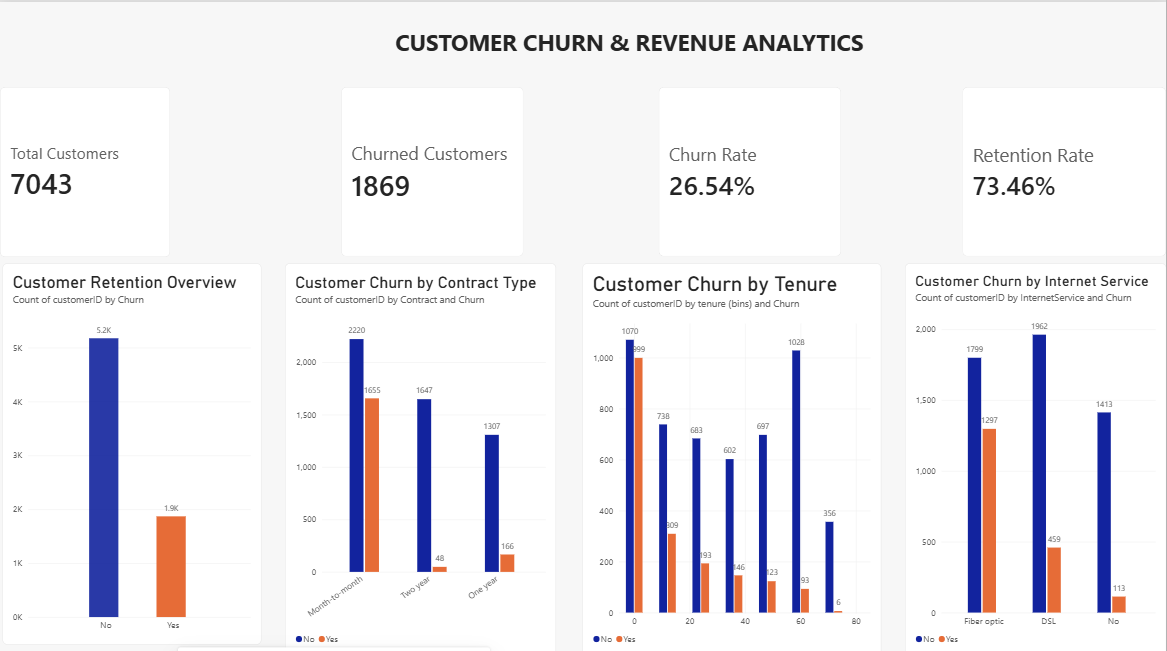

The dashboard page shown, as its layout file describes it:
{"tool":"powerbi","page":{"name":"CUSTOMER CHURN & REVENUE ANALYTICS","canvas":[1920,1080],"ordinal":0},"visuals":[{"type":"cardVisual","fields":{"Data":["telco_customer_churn_mysql.Total Customers"]},"box":[0,140,280,280],"z":0},{"type":"cardVisual","fields":{"Data":["telco_customer_churn_mysql.Churned Customers"]},"box":[561.9,140,300.5,279.9],"z":1000},{"type":"cardVisual","fields":{"Data":["telco_customer_churn_mysql.Churn Rate"]},"box":[1084.7,140,300.5,279.9],"z":2000},{"type":"cardVisual","fields":{"Data":["telco_customer_churn_mysql.Retention Rate"]},"box":[1584.9,140,335.5,279.9],"z":3000},{"type":"clusteredColumnChart","title":"Customer Retention Overview","fields":{"Category":["telco_customer_churn_mysql.Churn"],"Y":["CountNonNull(telco_customer_churn_mysql.customerID)"]},"box":[4.1,430.2,426.1,627.8],"z":4000},{"type":"clusteredColumnChart","title":"Customer Churn by Contract Type","fields":{"Category":["telco_customer_churn_mysql.Contract"],"Series":["telco_customer_churn_mysql.Churn"],"Y":["CountNonNull(telco_customer_churn_mysql.customerID)"]},"box":[469.3,430.2,446.7,650.4],"z":5000},{"type":"clusteredColumnChart","title":"Customer Churn by Tenure","fields":{"Category":["telco_customer_churn_mysql.tenure (bins)"],"Series":["telco_customer_churn_mysql.Churn"],"Y":["CountNonNull(telco_customer_churn_mysql.customerID)"]},"box":[959.2,430.2,491.9,650.4],"z":6000},{"type":"clusteredColumnChart","title":"Customer Churn by Internet Service","fields":{"Category":["telco_customer_churn_mysql.InternetService"],"Series":["telco_customer_churn_mysql.Churn"],"Y":["CountNonNull(telco_customer_churn_mysql.customerID)"]},"box":[1490.2,430.2,430.2,650.4],"z":7000},{"type":"textbox","box":[280,0,150,280],"z":8000},{"type":"textbox","title":"Customer Retention Overview","box":[424,41.2,1224.7,170.8],"z":9000},{"type":"textbox","box":[1648.7,0,271.7,160.5],"z":10000},{"type":"textbox","box":[280,280,150,150],"z":11000}]}

Visuals, with their boxes in screenshot pixels (x1, y1, x2, y2), scaled from the page's 1920x1080 canvas onto the 1167x651 screenshot:
cardVisual - telco_customer_churn_mysql.Total Customers: x1=0, y1=84, x2=170, y2=253
cardVisual - telco_customer_churn_mysql.Churned Customers: x1=342, y1=84, x2=524, y2=253
cardVisual - telco_customer_churn_mysql.Churn Rate: x1=659, y1=84, x2=842, y2=253
cardVisual - telco_customer_churn_mysql.Retention Rate: x1=963, y1=84, x2=1166, y2=253
"Customer Retention Overview" clusteredColumnChart: x1=2, y1=259, x2=261, y2=638
"Customer Churn by Contract Type" clusteredColumnChart: x1=285, y1=259, x2=557, y2=650
"Customer Churn by Tenure" clusteredColumnChart: x1=583, y1=259, x2=882, y2=650
"Customer Churn by Internet Service" clusteredColumnChart: x1=906, y1=259, x2=1166, y2=650
textbox: x1=170, y1=0, x2=261, y2=169
"Customer Retention Overview" textbox: x1=258, y1=25, x2=1002, y2=128
textbox: x1=1002, y1=0, x2=1166, y2=97
textbox: x1=170, y1=169, x2=261, y2=259
